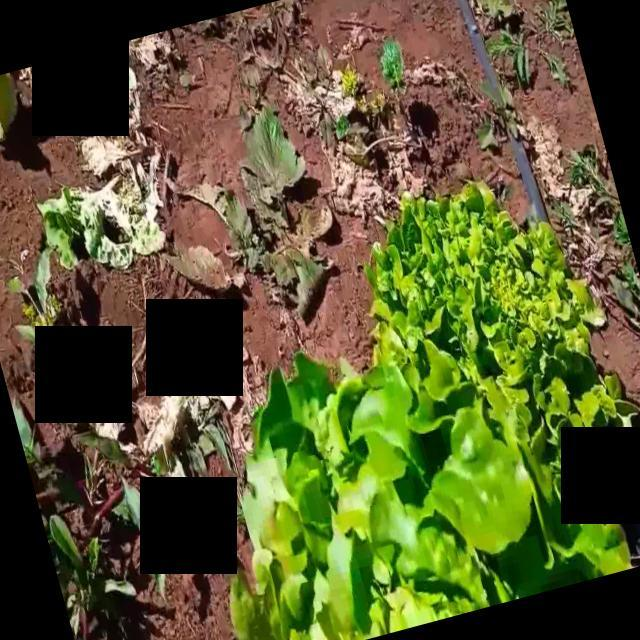Lettuce: (222, 346, 634, 638), (363, 183, 627, 430)
